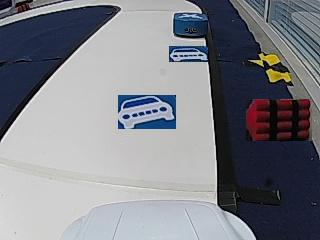prop: (173, 12, 209, 39)
